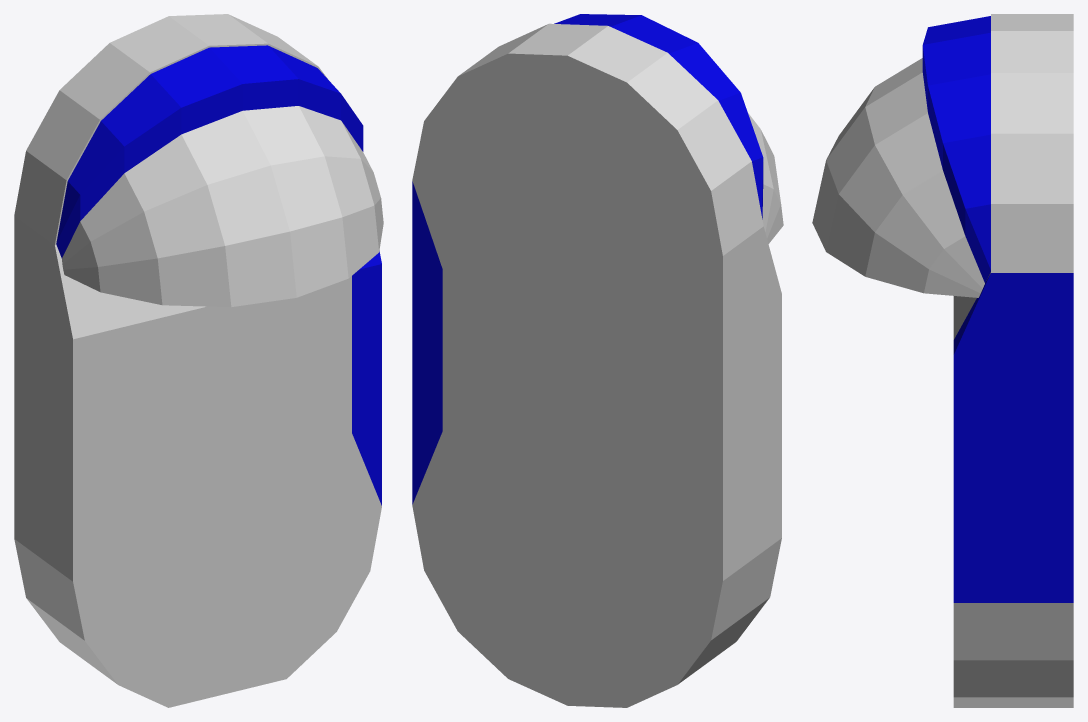
Rendered from pieizquierdo.dae.
The picture shows the model from 3 angles, left to right: view 1: azimuth 30°, elevation 25°; view 2: azimuth 150°, elevation 25°; view 3: azimuth 270°, elevation 25°; orthographic projection. The views are drawn at different scales.
Visible parts, largest first — view 1: foot_Sph_000, foot_Sph_001; view 2: foot_Sph_000, foot_Sph_001; view 3: foot_Sph_000, foot_Sph_001.
Boxes of the visible parts, bbox=[...] form: foot_Sph_000: bbox=[14, 14, 383, 707]; foot_Sph_001: bbox=[56, 45, 381, 505]; foot_Sph_000: bbox=[412, 23, 783, 707]; foot_Sph_001: bbox=[412, 14, 763, 504]; foot_Sph_000: bbox=[812, 14, 1073, 707]; foot_Sph_001: bbox=[922, 16, 1073, 602].
Bounding box in the file's own units: 1.1 × 0.7892 × 2.2.
